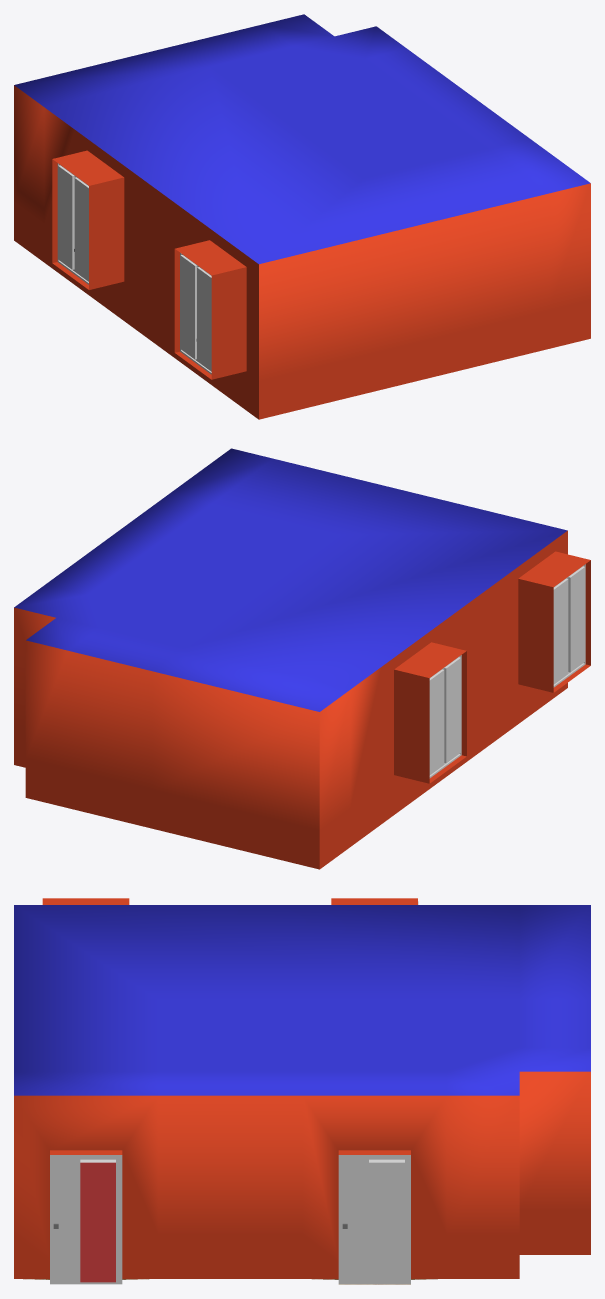
File: TutoSalleDeClasse.fbx
3 renders of one model, top to bottom at view 1: azimuth 30°, elevation 25°; view 2: azimuth 150°, elevation 25°; view 3: azimuth 270°, elevation 25°, orthographic. The views are drawn at different scales.
Parts seen in each view (by area): view 1: Salle; view 2: Salle; view 3: Salle.
Boxes of the visible parts, x1,y1,x2,y2 form: Salle: (14, 14, 590, 419); Salle: (14, 448, 590, 869); Salle: (14, 898, 590, 1284).
Size of the model in its own units: 1131 by 1262 by 445.
